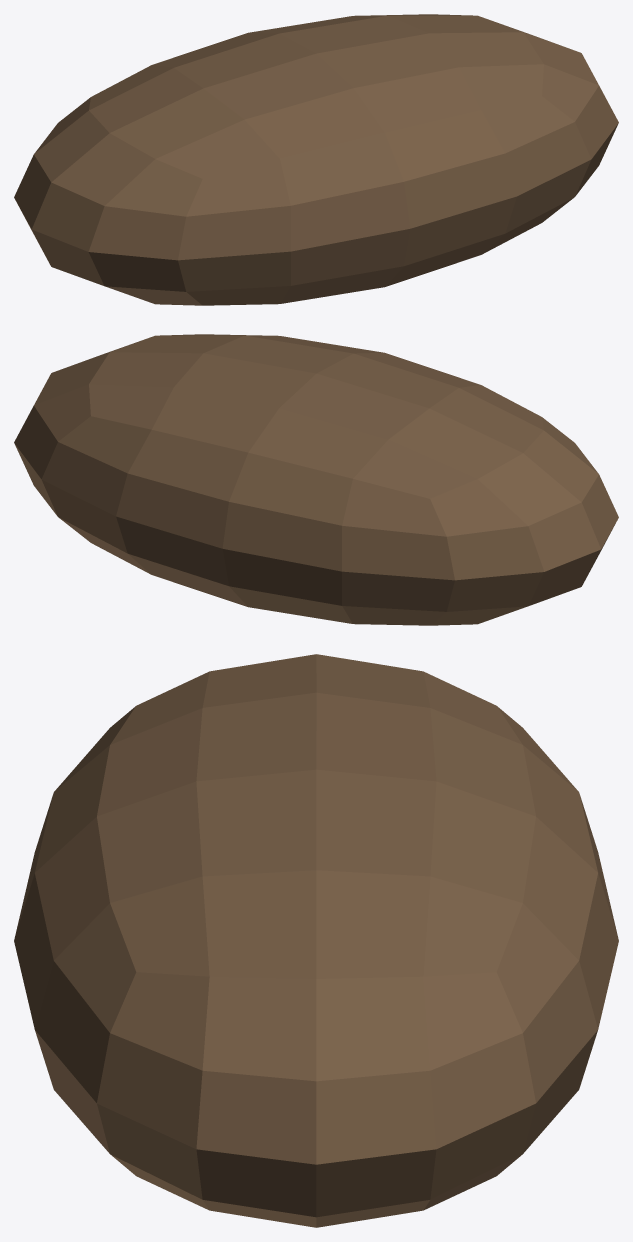
The model's file is MerchantVessel_Hull.fbx.
3 views of the same model, one above another, from view 1: azimuth 30°, elevation 25°; view 2: azimuth 150°, elevation 25°; view 3: azimuth 270°, elevation 25° (orthographic). The views are drawn at different scales.
Parts seen in each view (by area): view 1: MerchantVessel_Hull; view 2: MerchantVessel_Hull; view 3: MerchantVessel_Hull.
Boxes of the visible parts, x1,y1,x2,y2 form: MerchantVessel_Hull: [14, 14, 618, 305]; MerchantVessel_Hull: [14, 334, 618, 625]; MerchantVessel_Hull: [14, 654, 618, 1227].
Size of the model in its own units: 5.88 by 2.1 by 3.36.
